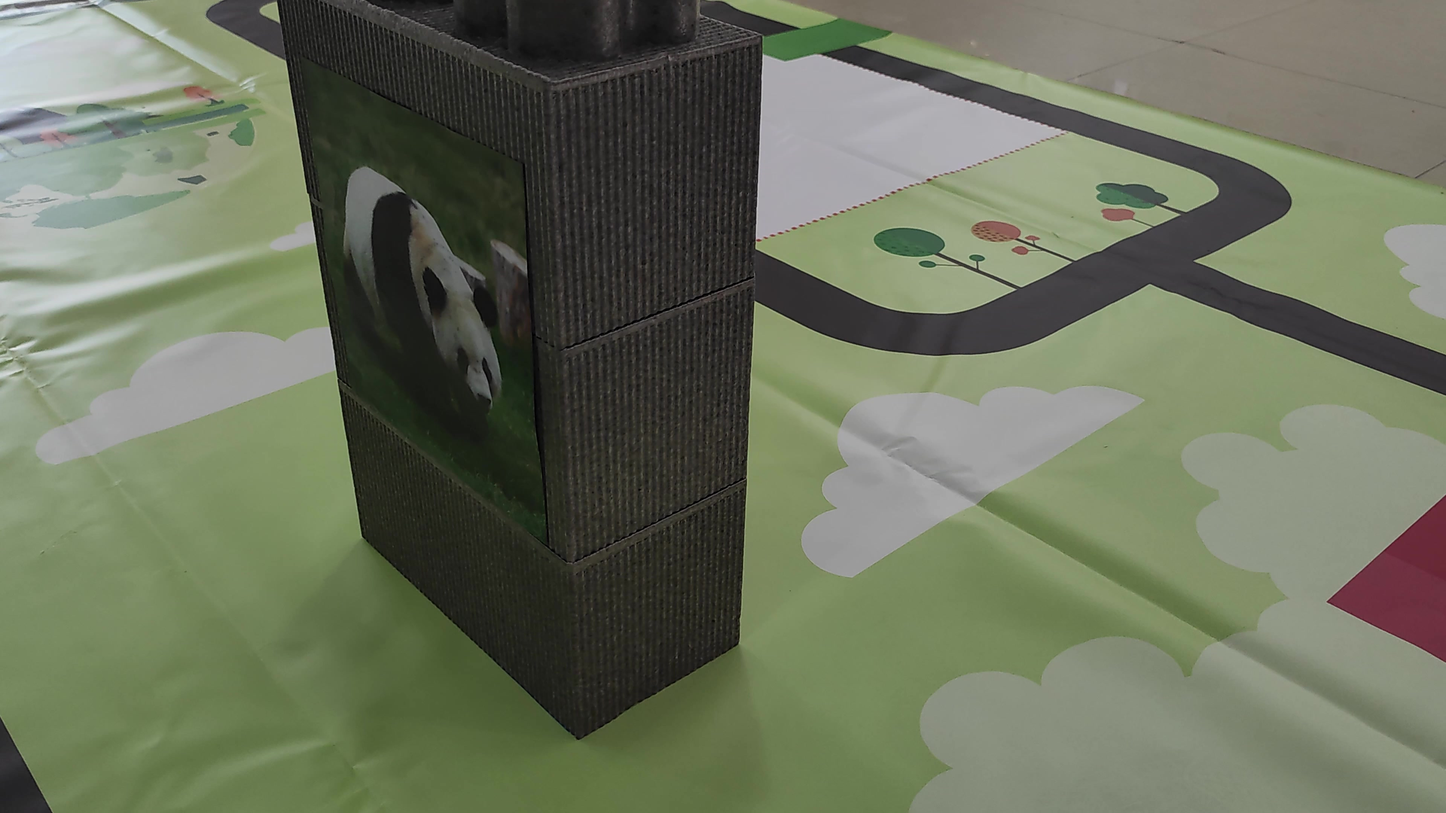panda: (305, 137, 536, 429)
